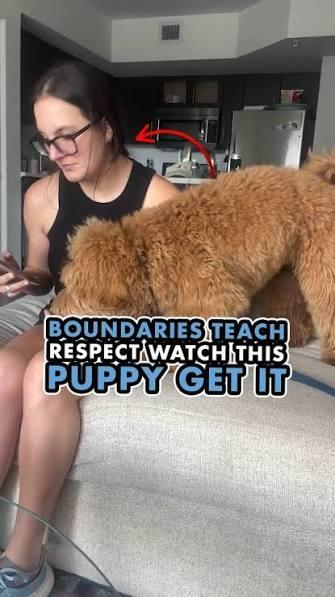adult_dog: (43, 148, 335, 366)
non-dog: (0, 64, 181, 596)
